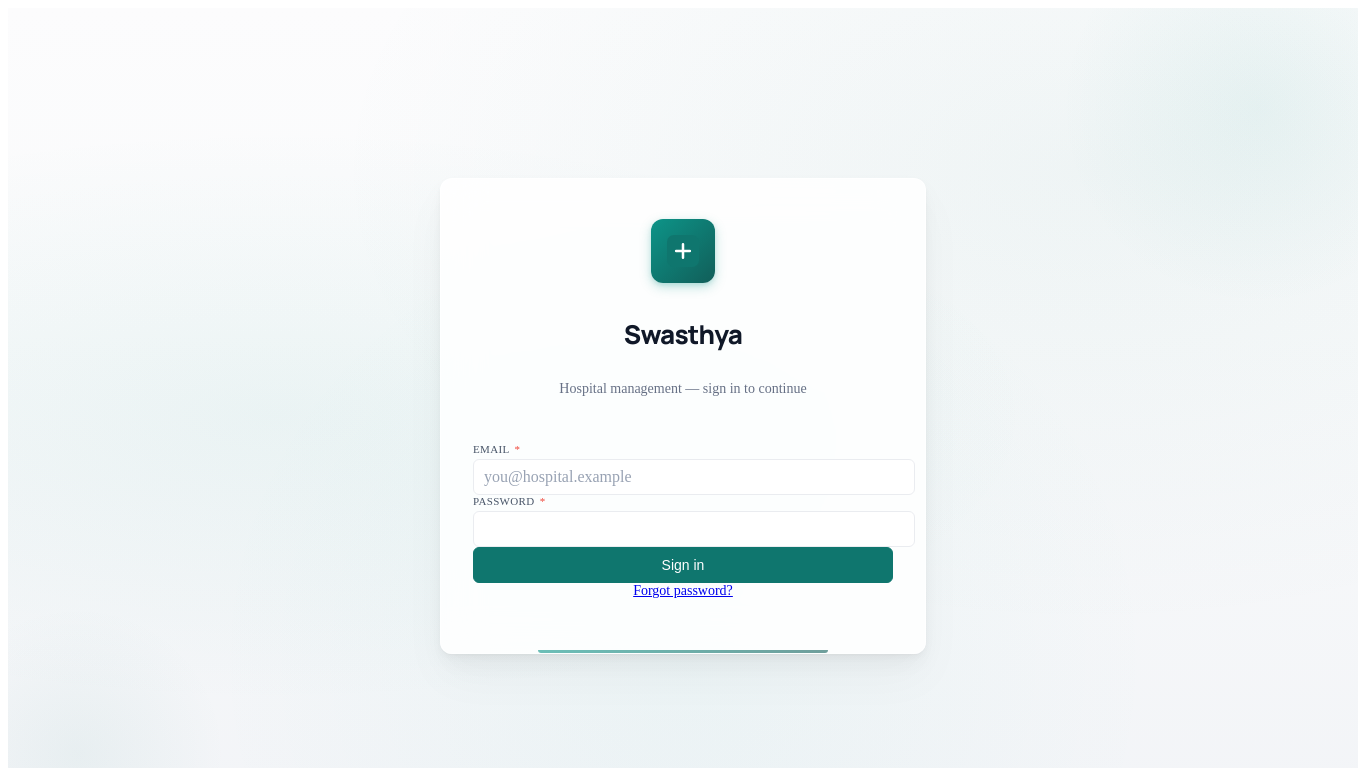
Test case: LoginPage › maps an empty submit to the backend validation message
Click the button "Sign in": [683, 565] box x1=473 y1=547 x2=893 y2=583
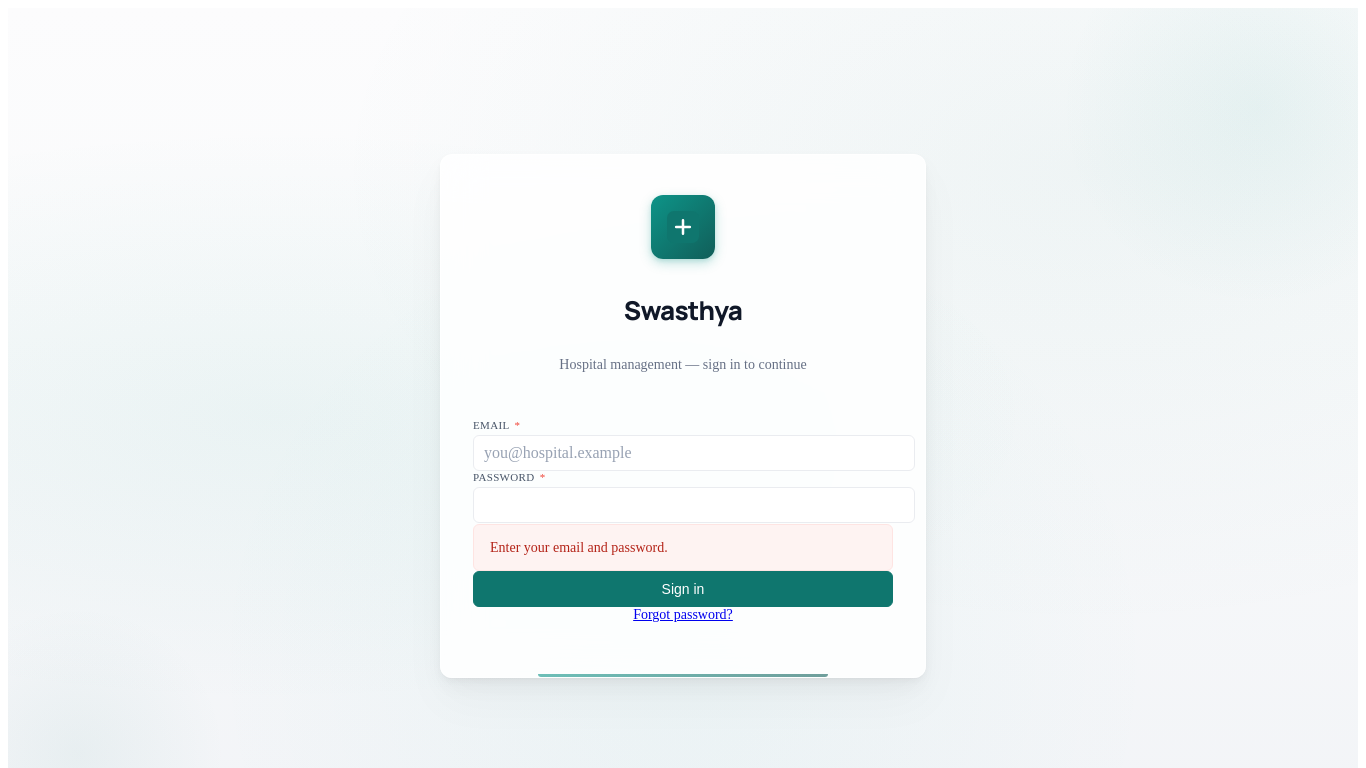
Expected: the message reads "Enter your email and password.", x1=490 y1=540 x2=668 y2=555
